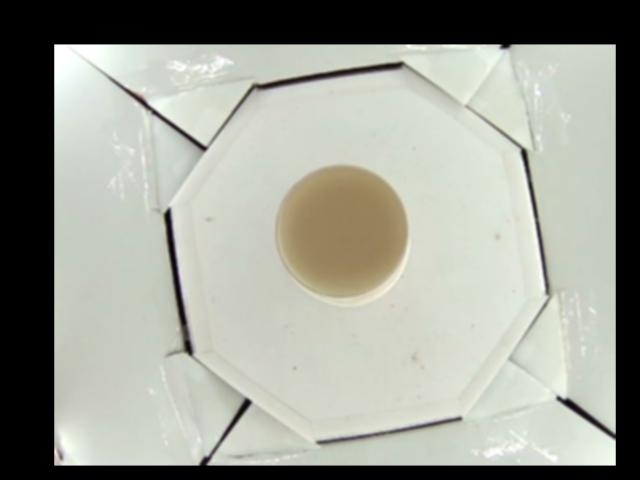Cup: (275, 162, 413, 303)
